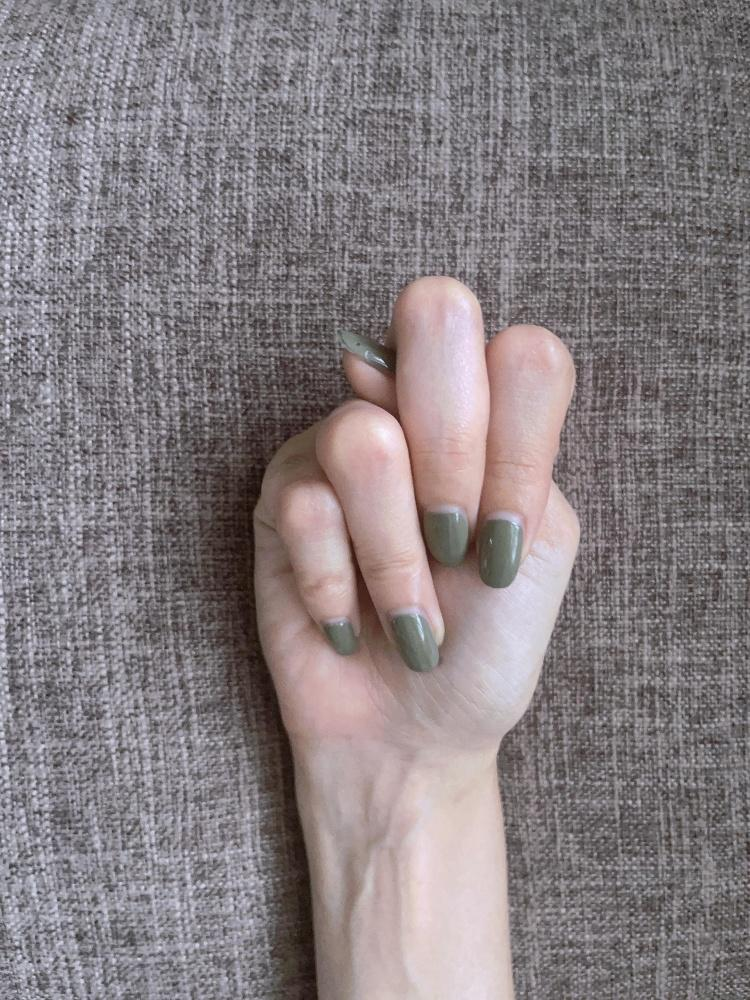n: (246, 268, 586, 754)
